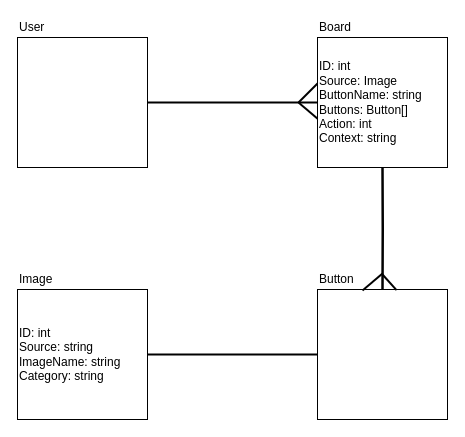
Some shapes in this 465 by 437 pixel diagram are drawn without their labels. The centre of each missing label's shape, as x and y in pixels:
"ID: int Source: Image ButtonName: string Action: int Context: string" goes at (x=382, y=354).
"ID: int UserName: string PassWord: string/hash IsAdmin: bool Boards: Board[]" goes at (x=82, y=102).
